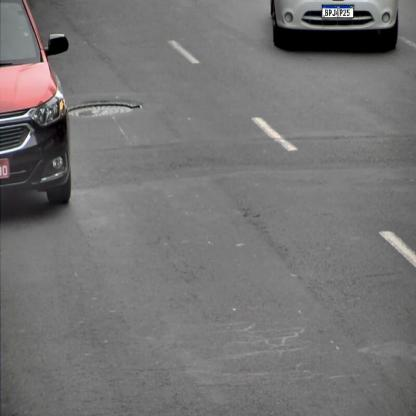PlacaM: (322, 5, 353, 18)
